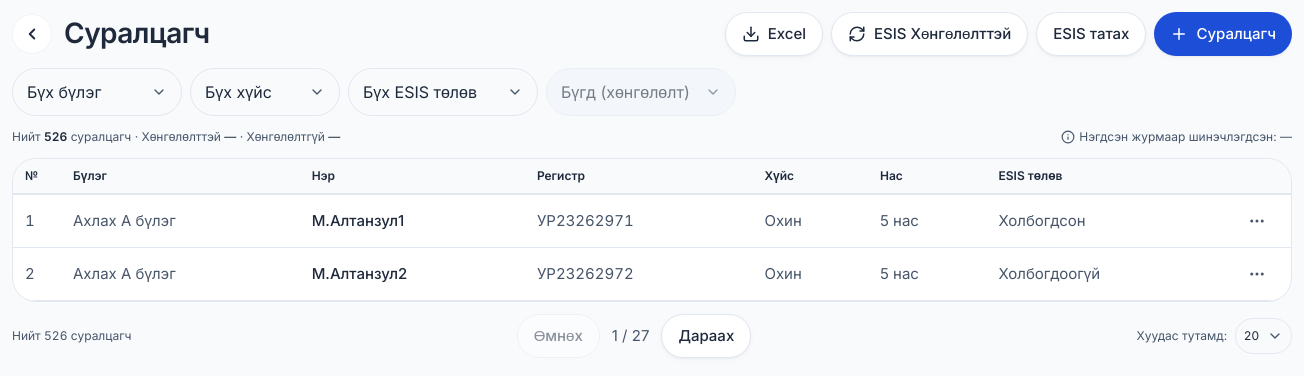
the director's roster › filters the API roster by ESIS link state
Check: the table named "Суралцагчийн жагсаалт" is shown, box [13,159,1291,301]
Click the dropdown labelled "ESIS төлөв": [443, 92] box [348,68,538,116]
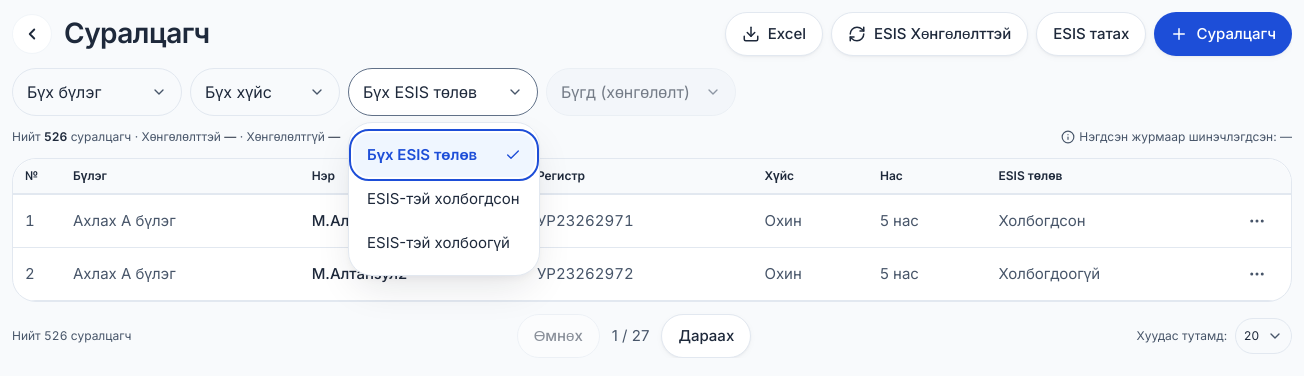
Click the option "ESIS-тэй холбоогүй": [438, 242] box [367,233,510,252]
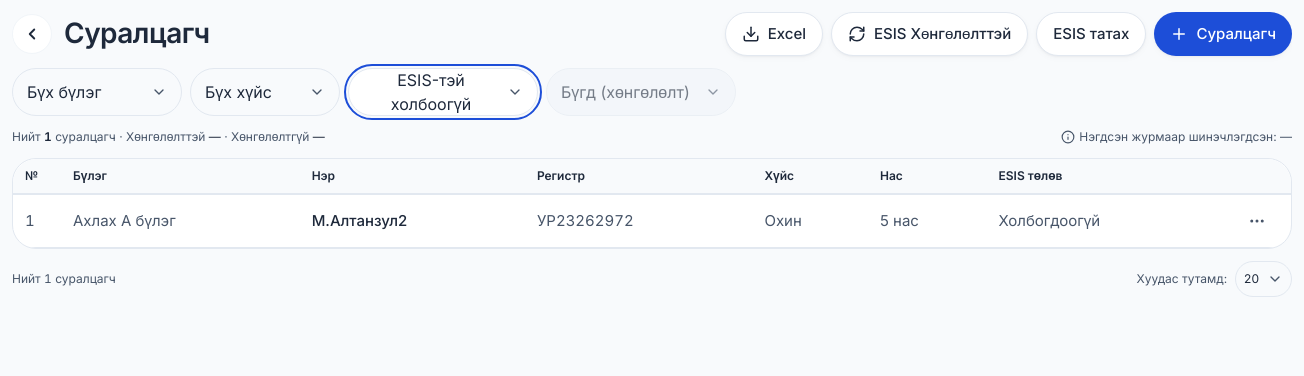
Check: the link "М.Алтанзул2" is shown, box [312,211,407,230]
Check: the link "М.Алтанзул1" is gone
